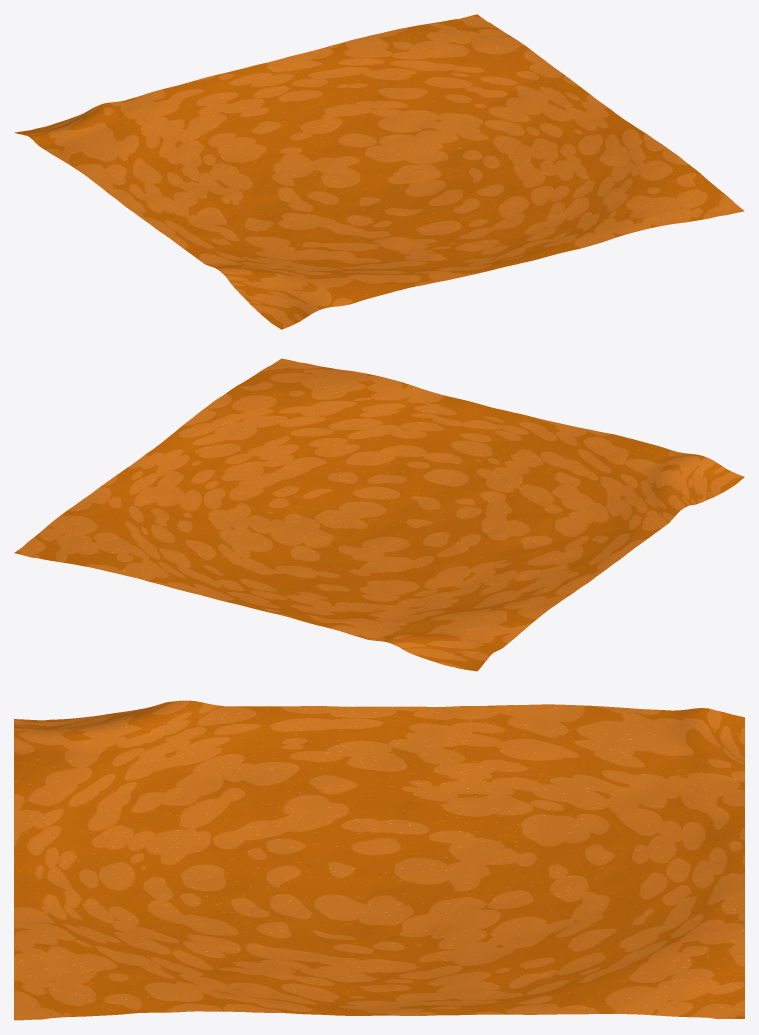
File: mars_ground.glb
3 views of the same model, one above another, from view 1: azimuth 30°, elevation 25°; view 2: azimuth 150°, elevation 25°; view 3: azimuth 270°, elevation 25° (orthographic). The views are drawn at different scales.
Parts seen in each view (by area): view 1: Mars_Ground; view 2: Mars_Ground; view 3: Mars_Ground.
Part boxes in pixels (<box>): Mars_Ground: <box>14,14,744,329</box>; Mars_Ground: <box>14,358,744,671</box>; Mars_Ground: <box>14,700,744,1020</box>.
Bounding box in the file's own units: 320 × 16.78 × 320.
1 material, 1 textured.
